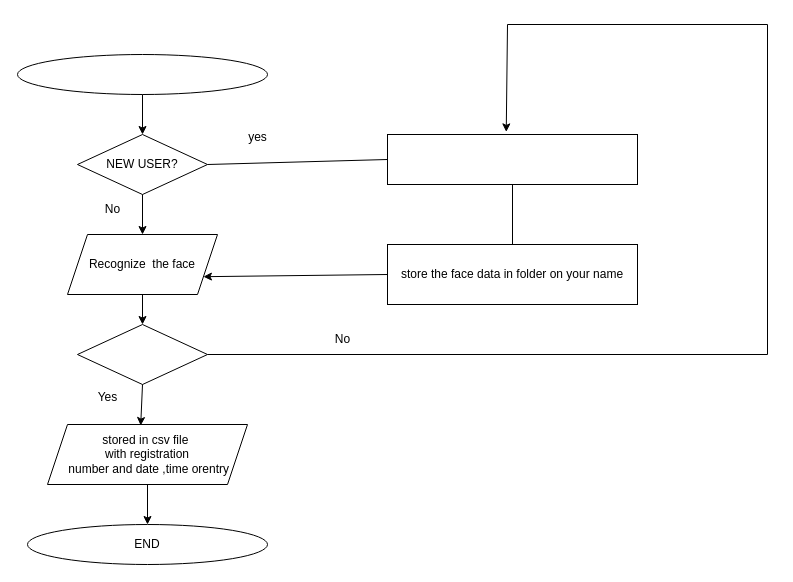
This 793x582 diagram has some shape labels left out. Here are the shapes that lost their labels. From the top down, the centre of each, then its label:
At pixel 142 74: "START".
At pixel 512 159: "Give your photograph".
At pixel 142 354: "Face recognized".
